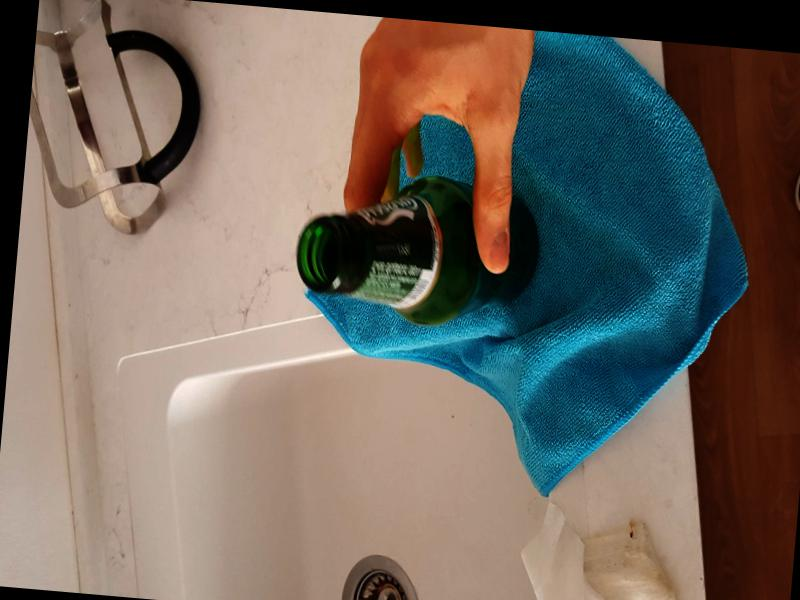Beer: (295, 177, 545, 332)
